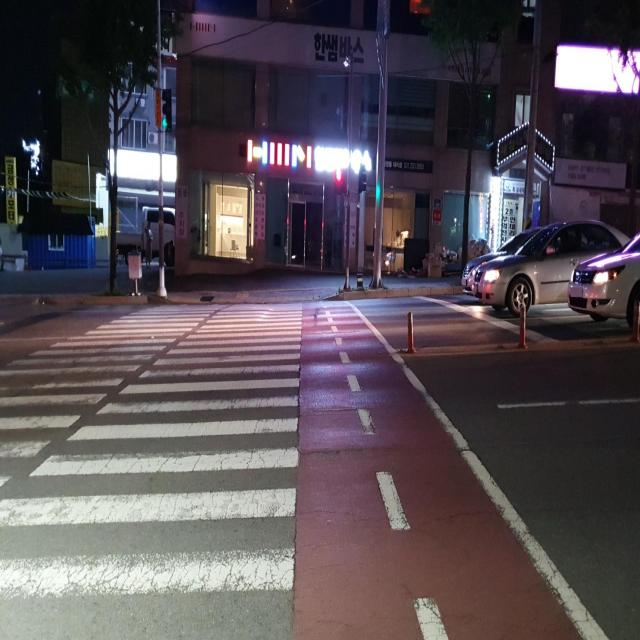빨간불: (332, 160, 348, 194)
횡단보도: (0, 300, 303, 603)
